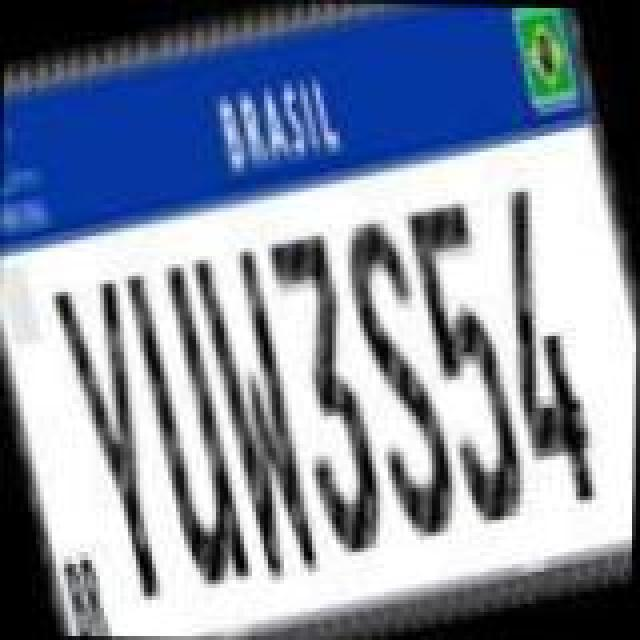3: (248, 222, 400, 566)
4: (466, 176, 610, 512)
5: (396, 192, 544, 536)
S: (328, 210, 476, 550)
U: (116, 264, 260, 600)
W: (184, 246, 336, 590)
Y: (46, 272, 194, 608)
